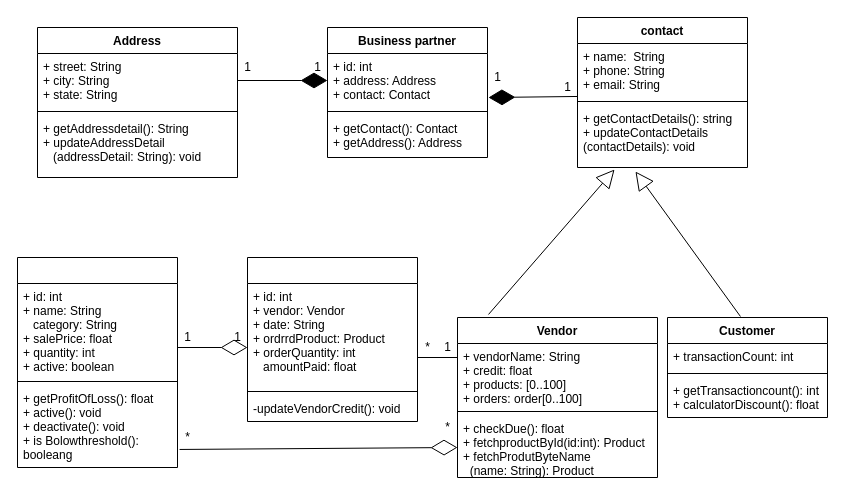
The diagram is 845 pixels wide and 498 high, and some of its shapes have lost their labels. The box of each missing label's shape, as (x1, y1, x2, y2) in pixels:
other: (246, 256, 418, 422)
product: (16, 256, 178, 468)
